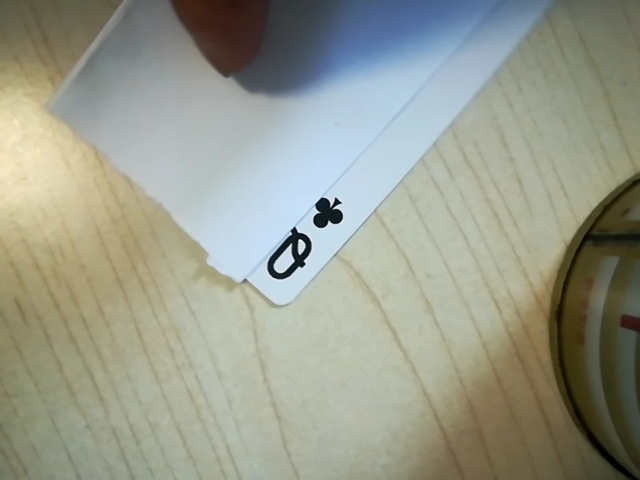mh q: (251, 185, 353, 290)
